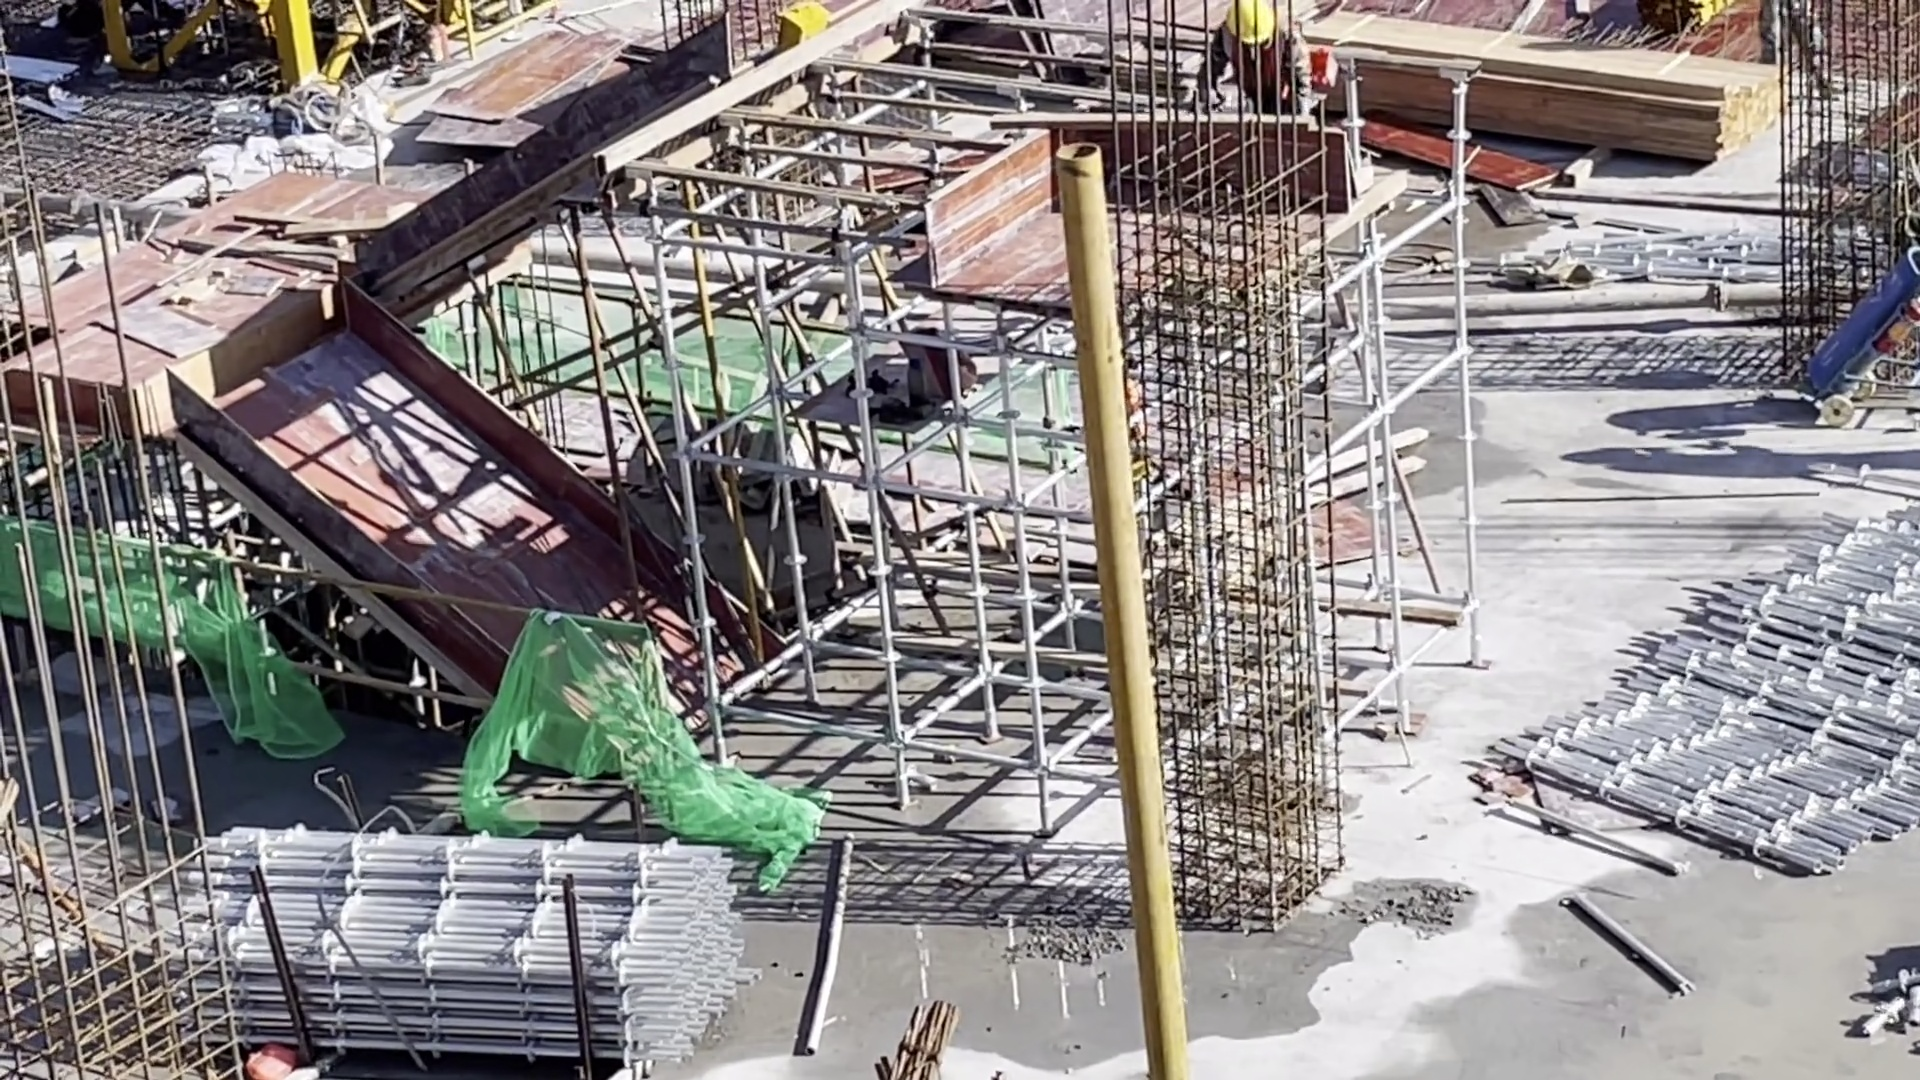helmet: (1232, 5, 1276, 46)
person: (1201, 1, 1322, 108), (1759, 1, 1833, 107)
scaffold: (165, 816, 762, 1076), (1491, 522, 1918, 876)
wood: (1304, 8, 1781, 160)
